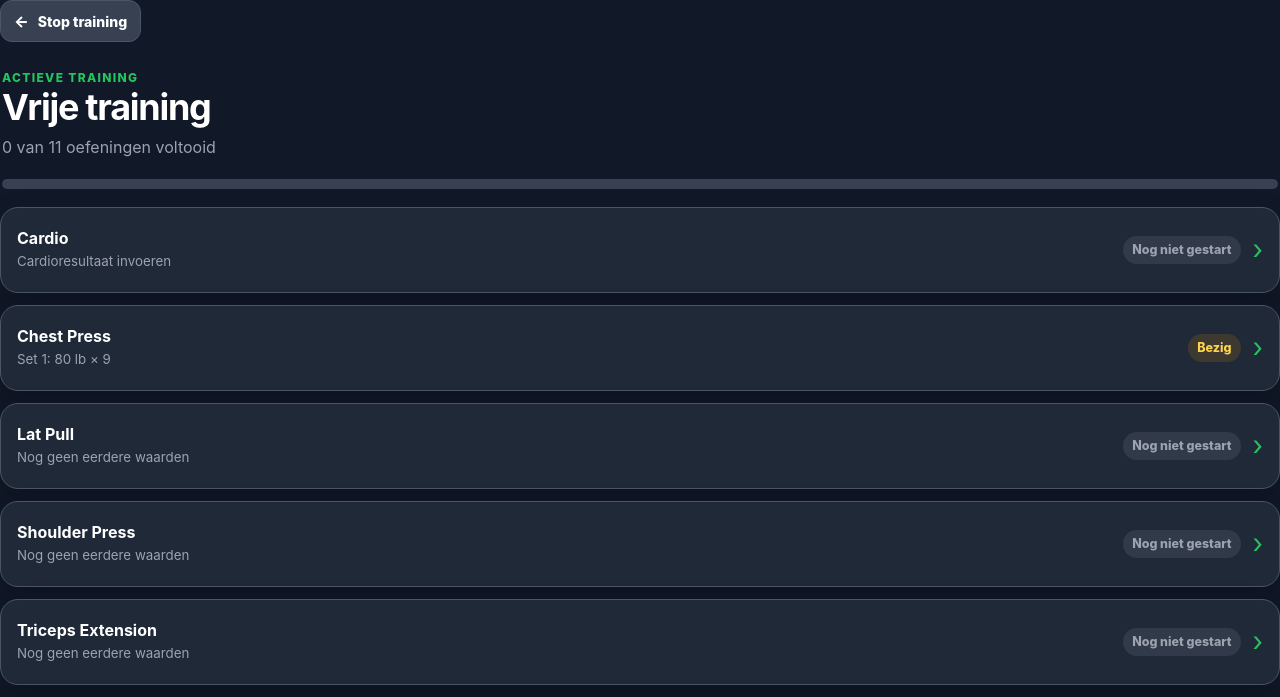
Test: actieve oefening tijdens autosave › rendert legacy-clouddata met oefeningen als object zonder filter-crash en behoudt invoer
expect the heading "Vrije training" is shown: met, box [2,88,216,128]
Click the button "Chest Press Set 1: 80 lb × 9 Bezig ›": click(64, 336) [1,306,1279,390]
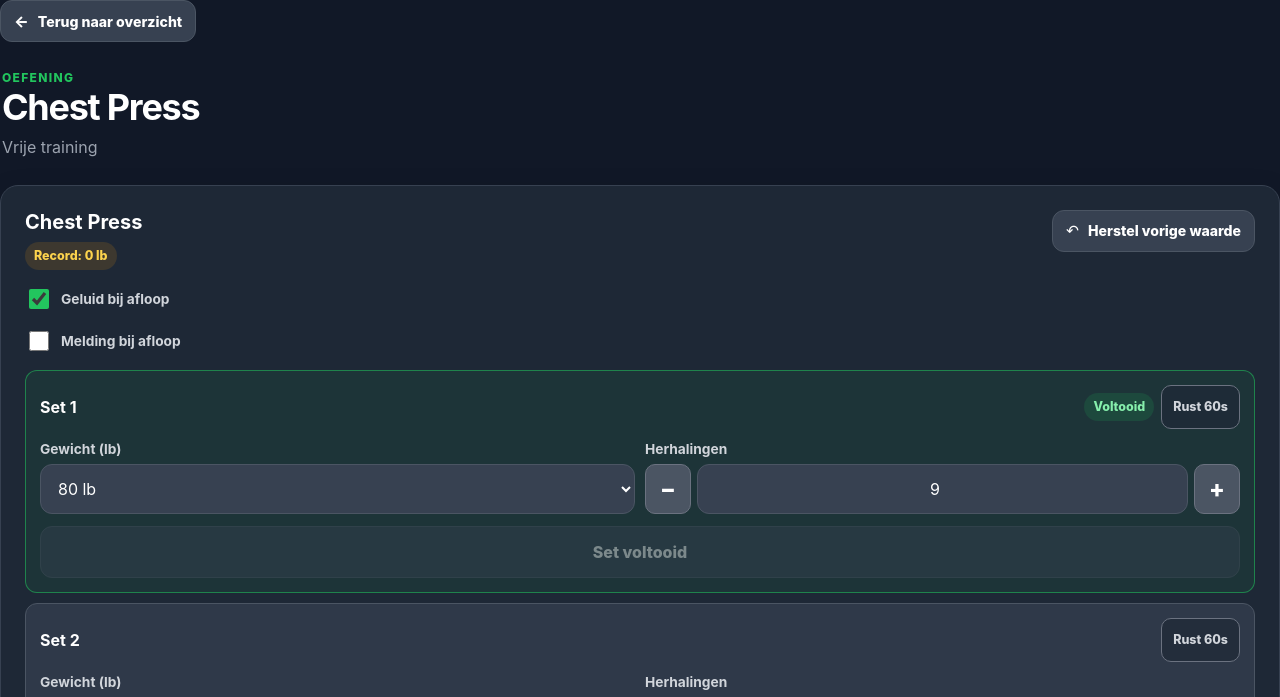
expect the 1st dropdown labelled "Gewicht (lb)" shows "80 lb": met, box [40,464,635,514]
expect the 1st number field labelled "Herhalingen" holds "9": met, box [697,464,1188,514]
